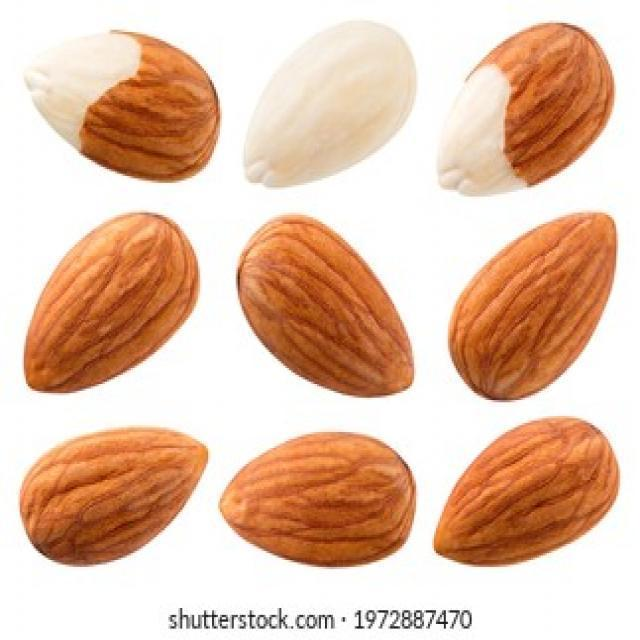almond: (20, 208, 200, 392), (447, 207, 617, 398), (235, 215, 413, 397), (20, 28, 220, 182), (437, 22, 612, 197), (242, 17, 415, 187), (435, 415, 618, 570), (220, 428, 415, 567), (20, 423, 208, 565)
